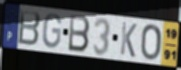3: (92, 16, 113, 59)
B: (17, 8, 42, 48), (67, 13, 91, 54)
G: (41, 13, 63, 50)
K: (119, 20, 139, 59)
O: (140, 23, 163, 62)
